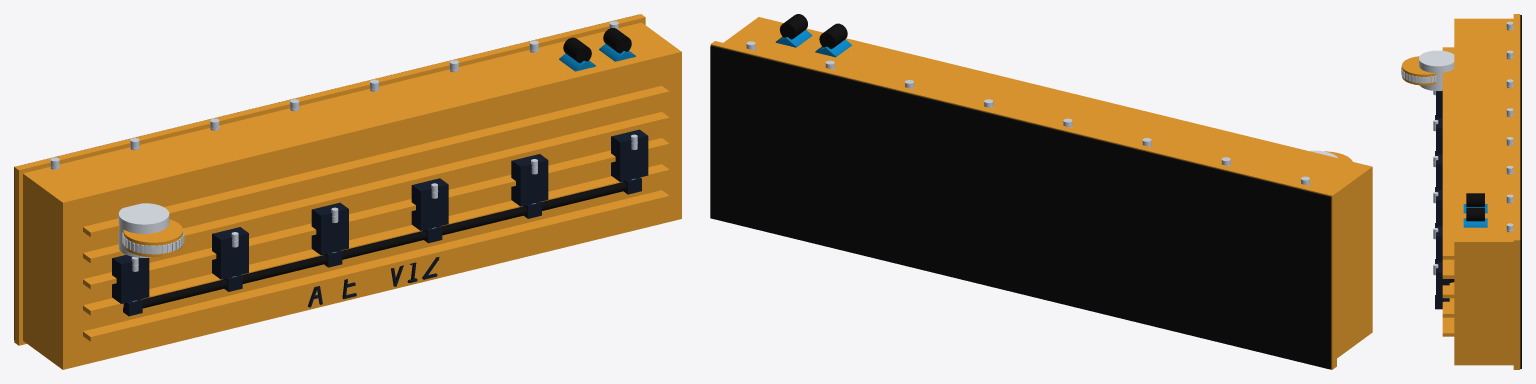
File: valve-cover-left.glb
The picture shows the model from 3 angles, left to right: view 1: azimuth 30°, elevation 25°; view 2: azimuth 150°, elevation 25°; view 3: azimuth 270°, elevation 25°; orthographic projection. The views are drawn at different scales.
Parts seen in each view (by area): view 1: Valve_Cover_Main_Billet_Shell, Longitudinal_Cooling_Fin_1, Longitudinal_Cooling_Fin_5, Perimeter_Gasket_Mating_Flange, Longitudinal_Cooling_Fin_4, Longitudinal_Cooling_Fin_3, Ignition_Coil_Harness_Loom, Longitudinal_Cooling_Fin_2, Smart_Ignition_Coil_Pack_6, Smart_Ignition_Coil_Pack_4, Smart_Ignition_Coil_Pack_3, Smart_Ignition_Coil_Pack_5 (+6 smaller); view 2: Molded_Viton_Perimeter_Gasket, Valve_Cover_Main_Billet_Shell, Perimeter_Gasket_Mating_Flange; view 3: Valve_Cover_Main_Billet_Shell, Perimeter_Gasket_Mating_Flange, Longitudinal_Cooling_Fin_5, Billet_Oil_Filler_Neck, Molded_Viton_Perimeter_Gasket, Knurled_Billet_Oil_Filler_Cap, Smart_Ignition_Coil_Pack_6, AN10_Breather_Hose_Stub_2, AN10_Breather_Hose_Stub_1, OilCap_Knurled_Grip_Band, Longitudinal_Cooling_Fin_1, Longitudinal_Cooling_Fin_4 (+8 smaller).
Boxes of the visible parts, <box> form: Valve_Cover_Main_Billet_Shell: <box>23,22,681,369</box>; Longitudinal_Cooling_Fin_1: <box>83,190,669,341</box>; Longitudinal_Cooling_Fin_5: <box>83,85,669,237</box>; Perimeter_Gasket_Mating_Flange: <box>14,14,645,345</box>; Longitudinal_Cooling_Fin_4: <box>83,112,669,263</box>; Longitudinal_Cooling_Fin_3: <box>83,138,669,289</box>; Ignition_Coil_Harness_Loom: <box>142,182,627,308</box>; Longitudinal_Cooling_Fin_2: <box>83,164,669,315</box>; Smart_Ignition_Coil_Pack_6: <box>611,129,648,182</box>; Smart_Ignition_Coil_Pack_4: <box>411,178,448,230</box>; Smart_Ignition_Coil_Pack_3: <box>311,202,348,255</box>; Smart_Ignition_Coil_Pack_5: <box>511,154,548,206</box>; Molded_Viton_Perimeter_Gasket: <box>710,45,1331,369</box>; Valve_Cover_Main_Billet_Shell: <box>723,17,1372,358</box>; Perimeter_Gasket_Mating_Flange: <box>710,41,1336,369</box>; Valve_Cover_Main_Billet_Shell: <box>1454,18,1513,365</box>; Perimeter_Gasket_Mating_Flange: <box>1513,14,1520,369</box>; Longitudinal_Cooling_Fin_5: <box>1442,47,1454,259</box>; Billet_Oil_Filler_Neck: <box>1419,50,1454,90</box>; Molded_Viton_Perimeter_Gasket: <box>1520,15,1521,368</box>; Knurled_Billet_Oil_Filler_Cap: <box>1402,56,1435,85</box>; Smart_Ignition_Coil_Pack_6: <box>1436,262,1449,301</box>; AN10_Breather_Hose_Stub_2: <box>1466,207,1484,221</box>; AN10_Breather_Hose_Stub_1: <box>1466,193,1484,206</box>; OilCap_Knurled_Grip_Band: <box>1401,65,1436,83</box>; Longitudinal_Cooling_Fin_1: <box>1442,317,1454,336</box>; Longitudinal_Cooling_Fin_4: <box>1442,259,1454,278</box>.
Size of the model in its own units: 0.628 by 0.188 by 0.142.
